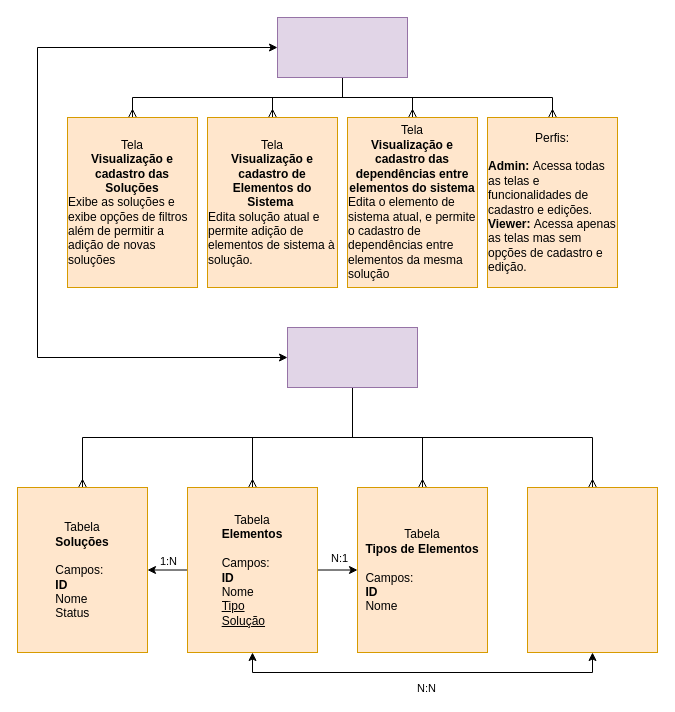
Some shapes in this 675 by 712 pixel diagram are drawn without their labels. The centre of each missing label's shape, as x and y in pixels:
Aplicativo (PowerApps): point 342,47
Banco de Dados (Dataverse): point 352,357
Tabela Dependências Campos: ID Elemento A Elemento B Descrição: point 592,569
